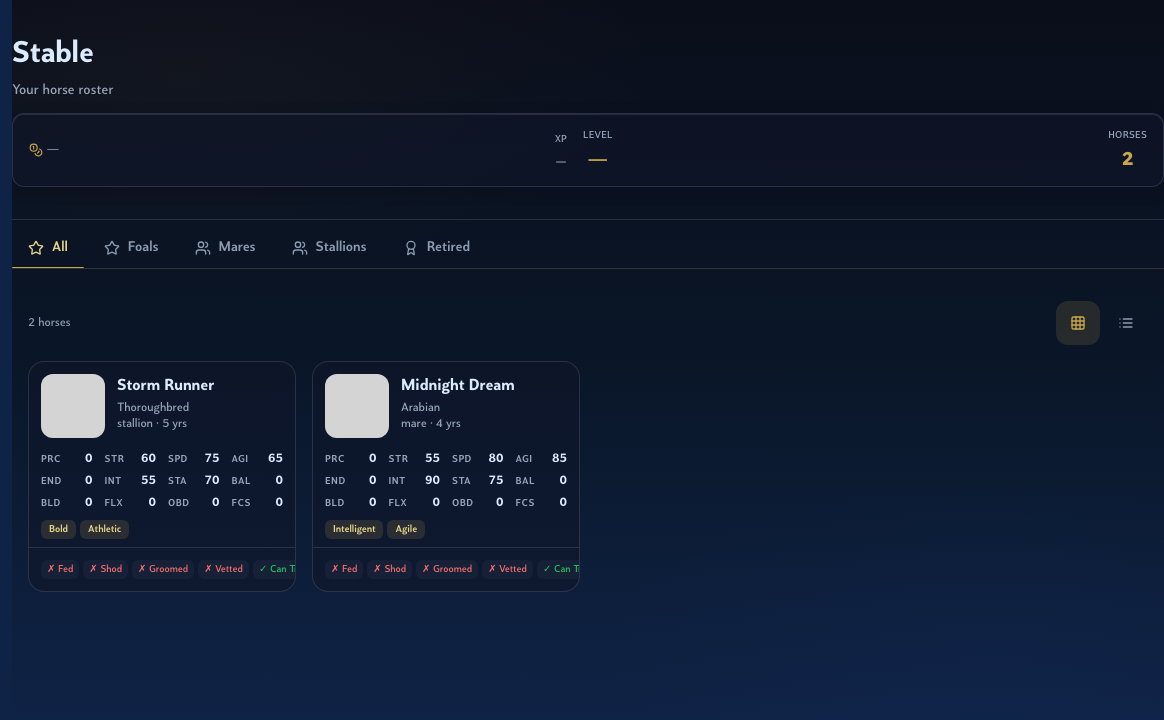
Test case: StableView — category tab filter (Equoria-o5hub.30) › Stallions tab filters to the stallion only
The width and height of the screenshot is (1164, 720).
Expected: the text "Storm Runner" is shown, 117,378 -> 214,394
Click the tab "Stallions". click: click(329, 248)
box: 276,228 -> 383,268
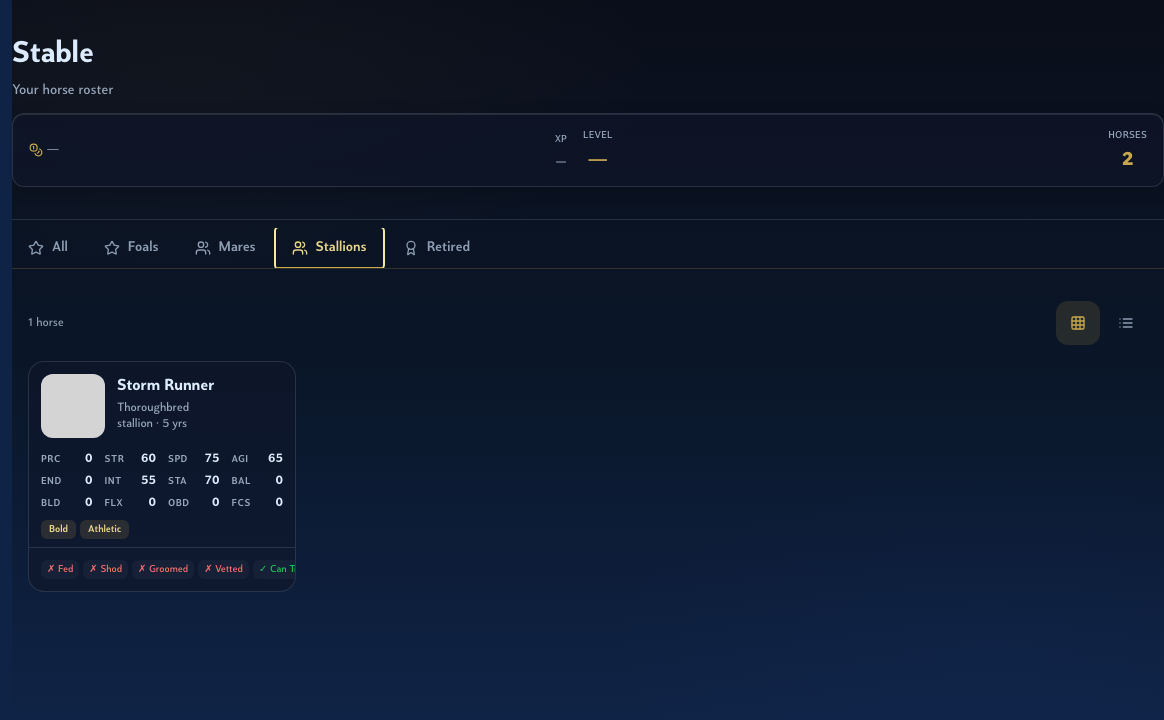
Expected: the text "Storm Runner" is shown, 117,378 -> 214,394
Expected: the button "Midnight Dream" is gone
